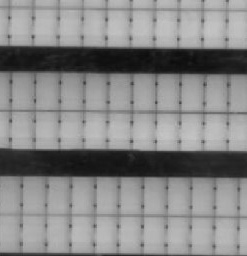solar: (188, 213, 217, 256), (163, 213, 192, 256), (139, 213, 168, 256), (116, 213, 145, 256), (92, 212, 121, 255), (69, 212, 98, 255), (42, 212, 71, 255), (19, 211, 48, 254), (6, 5, 35, 47), (32, 5, 61, 47), (56, 5, 85, 47), (80, 5, 109, 47), (104, 5, 133, 47), (130, 6, 159, 48), (152, 6, 181, 48), (176, 7, 205, 49), (201, 8, 230, 50), (8, 70, 37, 112), (33, 70, 62, 112), (57, 70, 86, 112), (82, 71, 111, 113), (105, 71, 134, 113), (130, 71, 159, 113), (153, 71, 182, 113), (177, 71, 206, 113), (201, 72, 230, 114), (201, 109, 230, 151), (176, 109, 205, 151), (153, 109, 182, 151), (129, 109, 158, 151), (105, 108, 134, 150), (81, 108, 110, 150), (57, 108, 86, 150), (32, 108, 61, 150), (8, 108, 37, 150), (20, 174, 49, 216), (45, 174, 74, 216), (69, 174, 98, 216), (92, 174, 121, 216), (117, 174, 146, 216), (140, 175, 169, 217), (163, 176, 192, 218), (189, 176, 218, 218), (213, 176, 242, 218), (212, 213, 241, 255)
